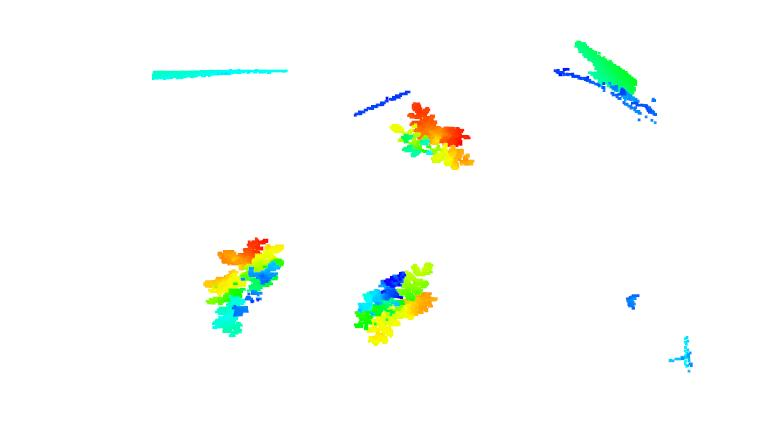chickpea: (201, 234, 287, 338), (350, 258, 440, 349), (386, 100, 477, 173)
